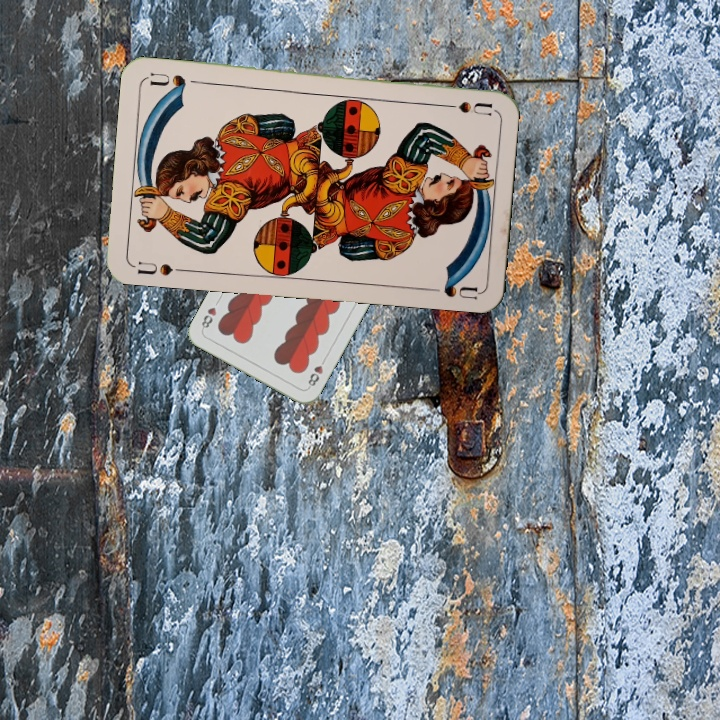H8: (304, 353, 329, 391)
SU: (434, 97, 494, 119), (130, 257, 189, 278)
